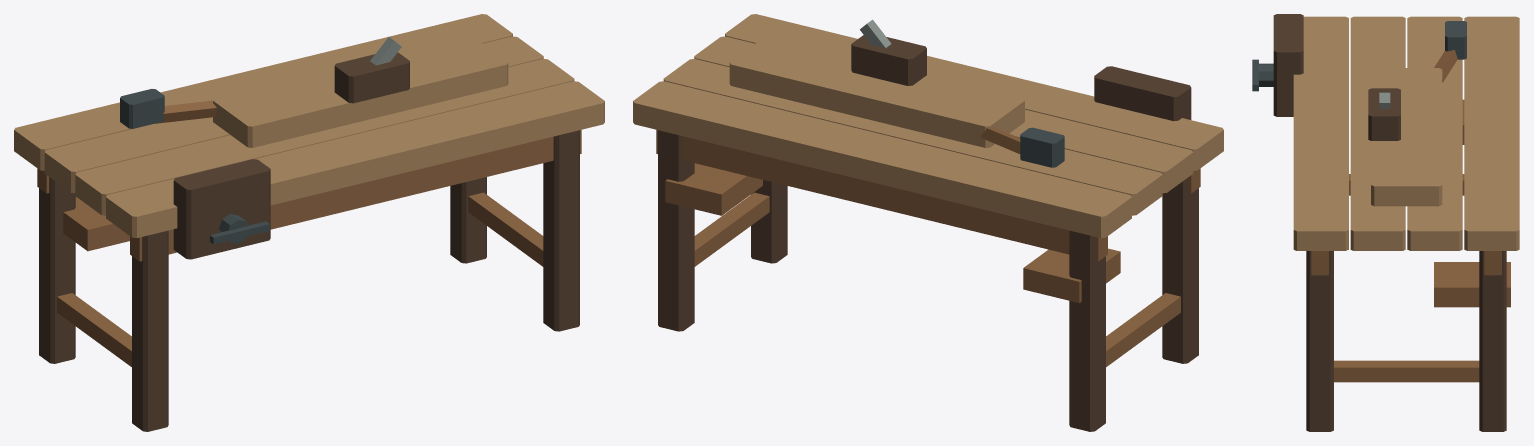
File: workbench_carpenter.glb
The picture shows the model from 3 angles, left to right: view 1: azimuth 30°, elevation 25°; view 2: azimuth 150°, elevation 25°; view 3: azimuth 270°, elevation 25°; orthographic projection. The views are drawn at different scales.
Visible parts, largest first — view 1: geometry; view 2: geometry; view 3: geometry.
Part boxes in pixels (left/top/right/bottom): geometry: left=14, top=14, right=604, bottom=431; geometry: left=633, top=14, right=1223, bottom=431; geometry: left=1252, top=14, right=1519, bottom=431.
Size of the model in its own units: 1.85 by 1.09 by 0.9745.
